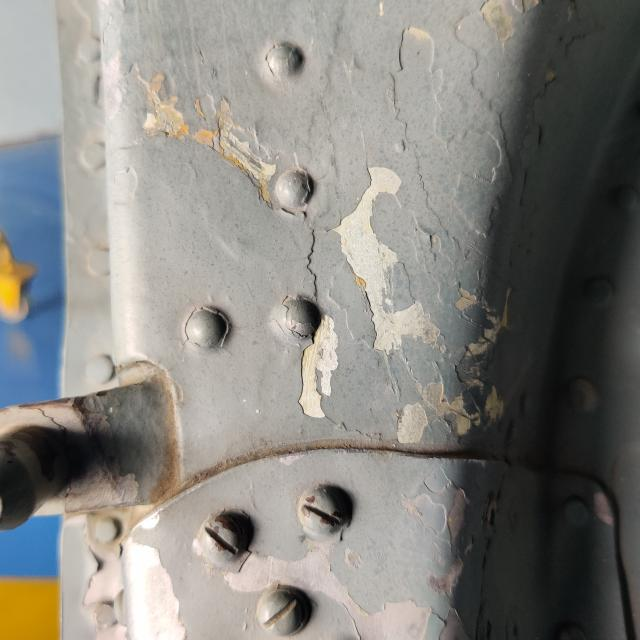paint-off: (262, 145, 527, 463), (132, 62, 282, 205)
